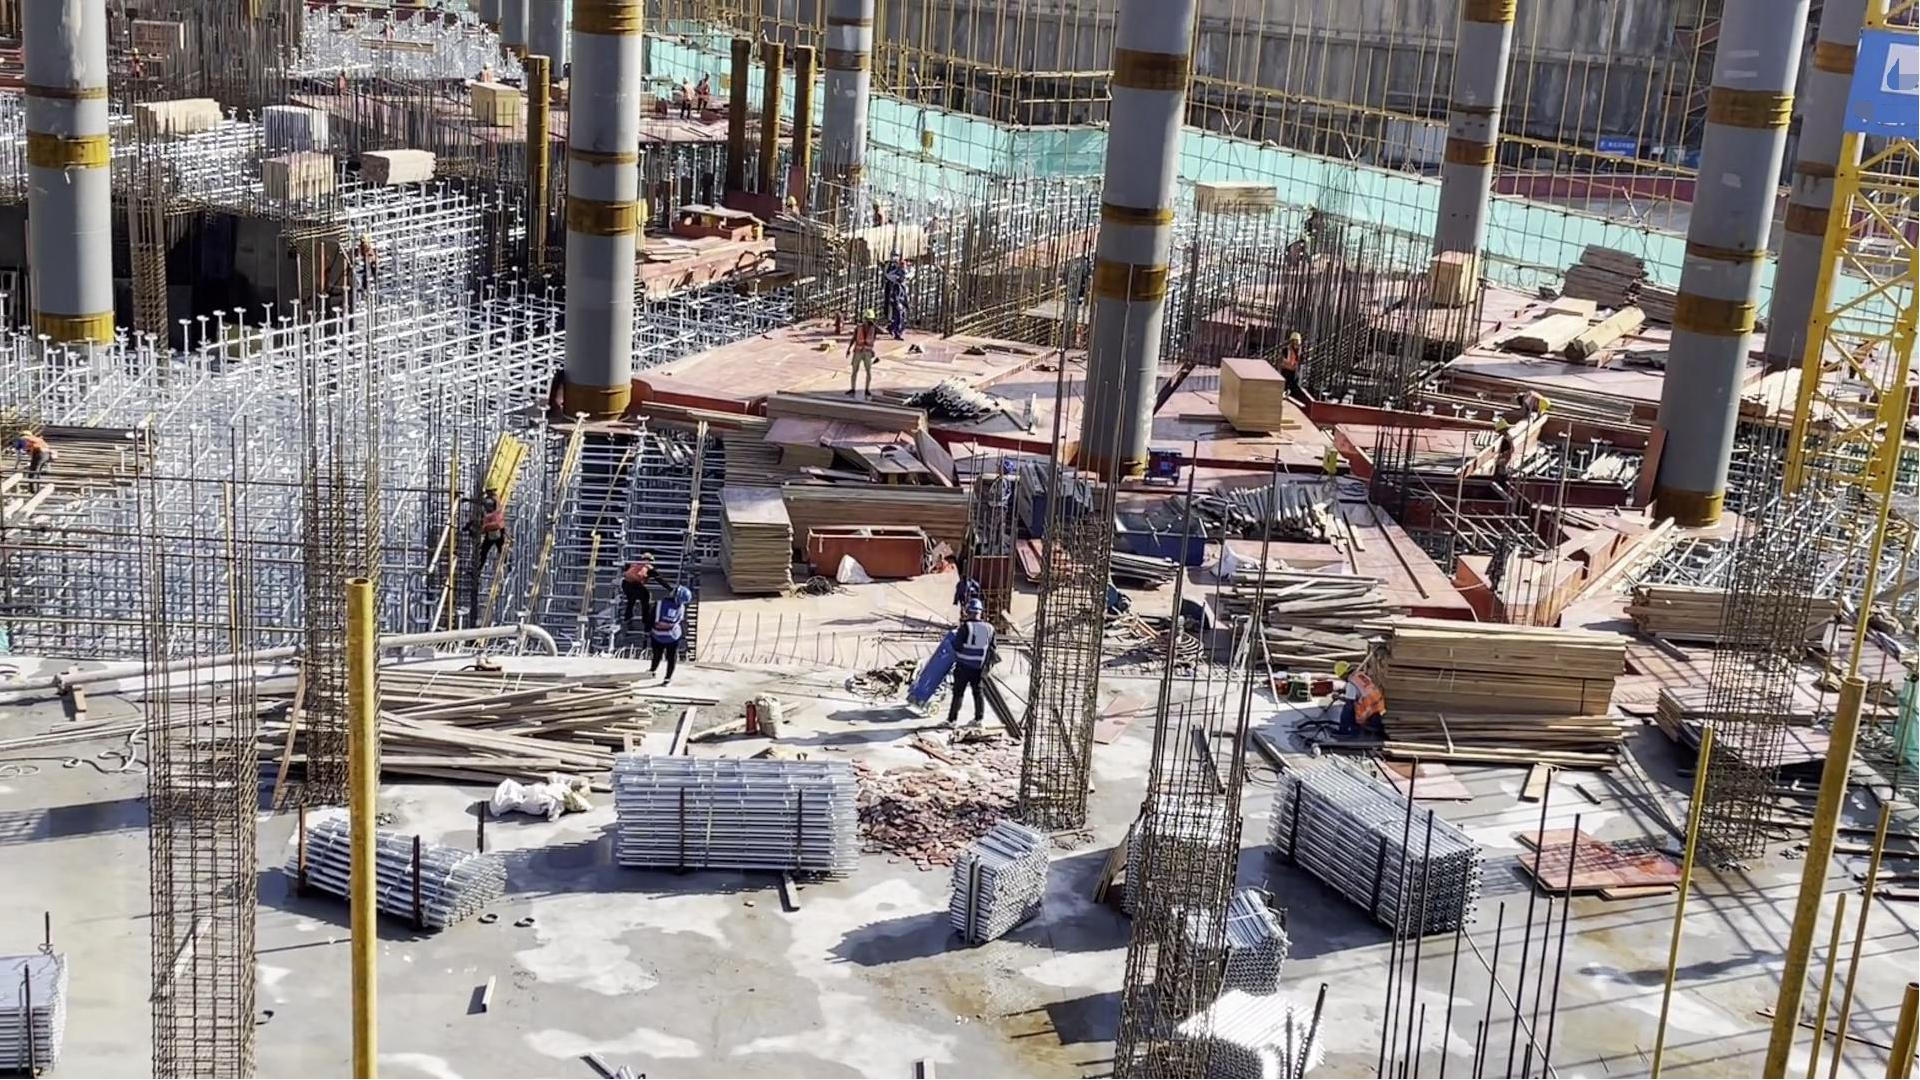board: (1655, 674, 1831, 792), (1514, 815, 1689, 912), (714, 477, 793, 597), (1215, 352, 1284, 436), (769, 412, 837, 484), (253, 149, 342, 204), (1425, 248, 1480, 312), (471, 81, 522, 134)
cutter: (672, 199, 767, 247), (849, 440, 933, 493)
ebox: (1321, 445, 1339, 479), (919, 128, 935, 159), (717, 71, 731, 99)
helmet: (1335, 660, 1353, 679), (962, 598, 984, 615), (675, 586, 691, 606), (480, 478, 499, 491), (895, 259, 908, 270), (898, 267, 911, 278), (861, 308, 875, 319), (785, 194, 796, 206), (889, 248, 902, 258), (872, 199, 881, 208)
hopper: (1112, 516, 1205, 560)
person: (953, 597, 992, 722), (1333, 658, 1387, 743), (648, 585, 692, 685), (470, 476, 508, 576), (12, 430, 61, 501), (846, 307, 880, 398), (622, 553, 655, 634), (888, 261, 909, 339), (353, 235, 379, 290), (694, 69, 711, 113), (680, 74, 693, 122), (877, 248, 899, 276), (784, 194, 803, 218), (871, 199, 885, 227)
scaffold: (1266, 763, 1481, 936), (607, 756, 861, 876), (288, 821, 505, 944), (1169, 990, 1328, 1080), (947, 821, 1047, 944), (1160, 902, 1289, 993), (1, 945, 67, 1075)
vest: (1350, 673, 1384, 725), (960, 620, 990, 672), (655, 601, 682, 643), (481, 494, 505, 535), (889, 283, 910, 316), (854, 325, 876, 356), (625, 563, 651, 583), (873, 211, 887, 227)
wood: (1362, 616, 1630, 775), (380, 662, 653, 794), (1228, 561, 1397, 680), (1629, 580, 1842, 657), (1176, 479, 1357, 547), (1502, 307, 1640, 372), (767, 388, 920, 435), (789, 484, 967, 524), (908, 374, 1035, 430), (771, 211, 834, 276), (133, 98, 222, 136), (360, 145, 437, 189), (848, 225, 929, 267), (1192, 183, 1280, 220)
